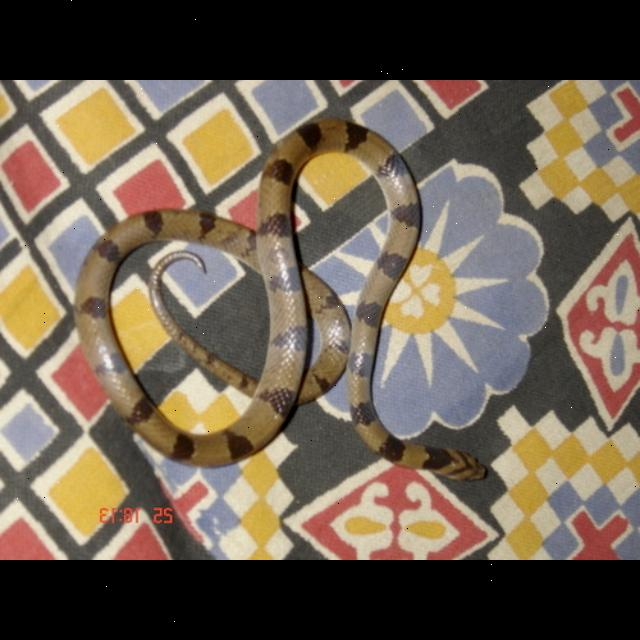snake: (72, 110, 498, 484)
